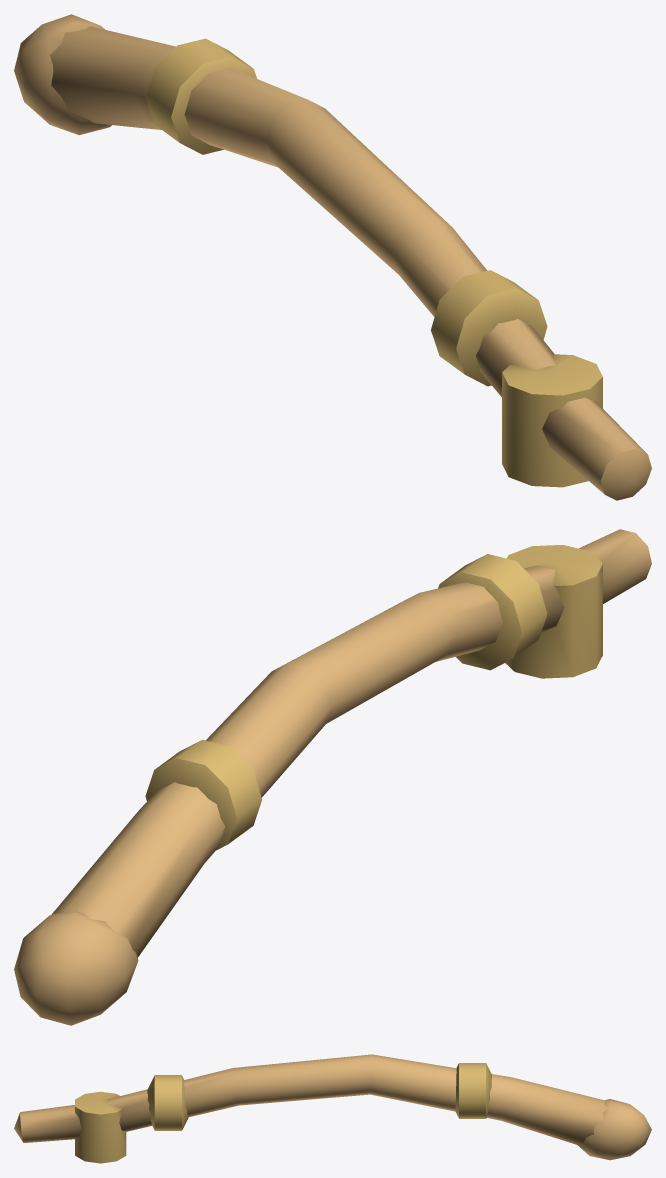
Rendered from EDV2_PumpLever.fbx.
The picture shows the model from 3 angles, top to bottom: view 1: azimuth 30°, elevation 25°; view 2: azimuth 150°, elevation 25°; view 3: azimuth 270°, elevation 25°; orthographic projection. The views are drawn at different scales.
Parts seen in each view (by area): view 1: Lever; view 2: Lever; view 3: Lever.
Boxes of the visible parts, x1,y1,x2,y2 form: Lever: [14, 14, 651, 500]; Lever: [14, 529, 651, 1025]; Lever: [14, 1054, 651, 1163].
Bounding box in the file's own units: 0.0271 × 0.0491 × 0.2831.
